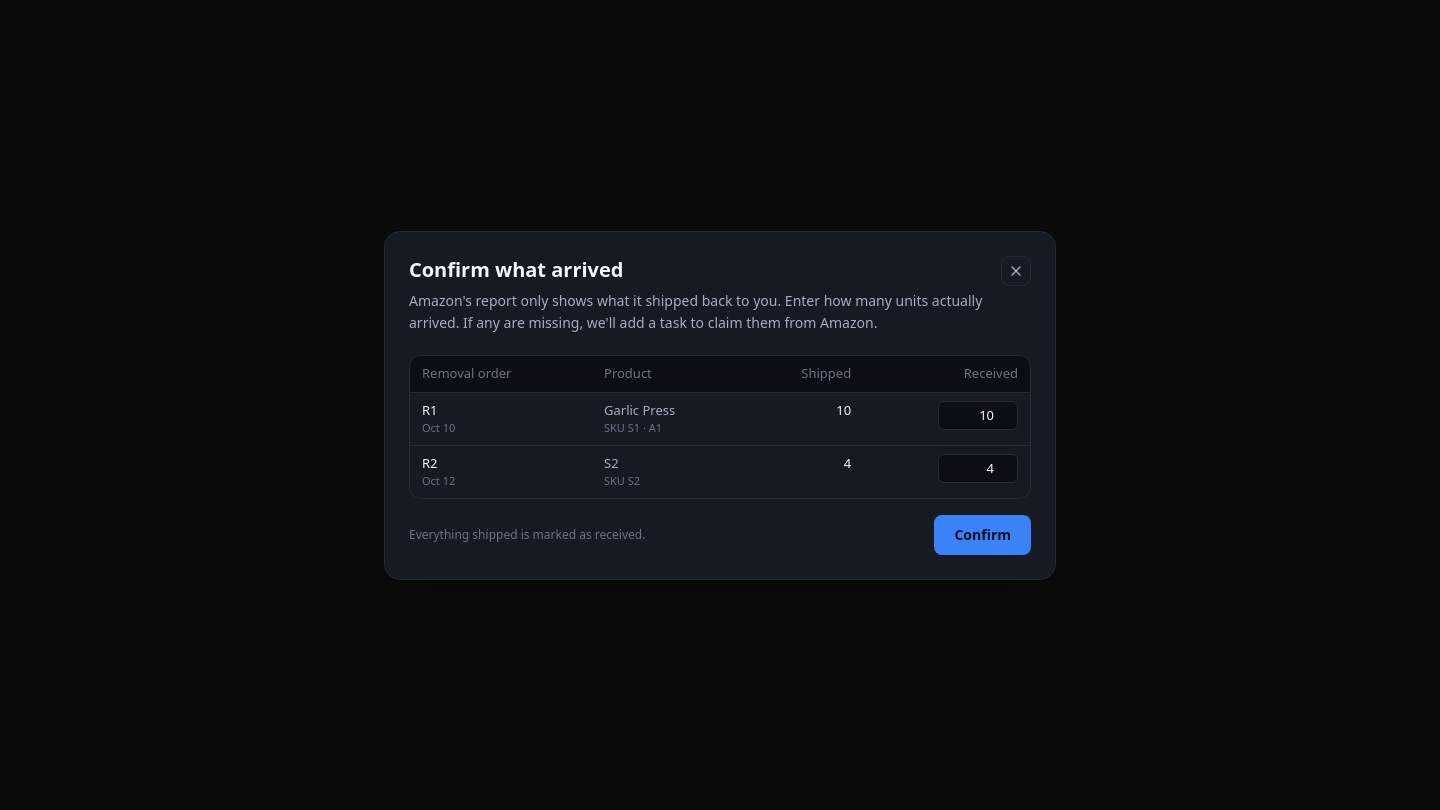
Test: RemovalReceiptModal › shows lines the server rejected and does not tick the task off
The image size is (1440, 810).
expect the text "Garlic Press" is shown: met, box [604,400,675,418]
Click the button "Confirm".
click(983, 534)  # box [934,514,1031,554]
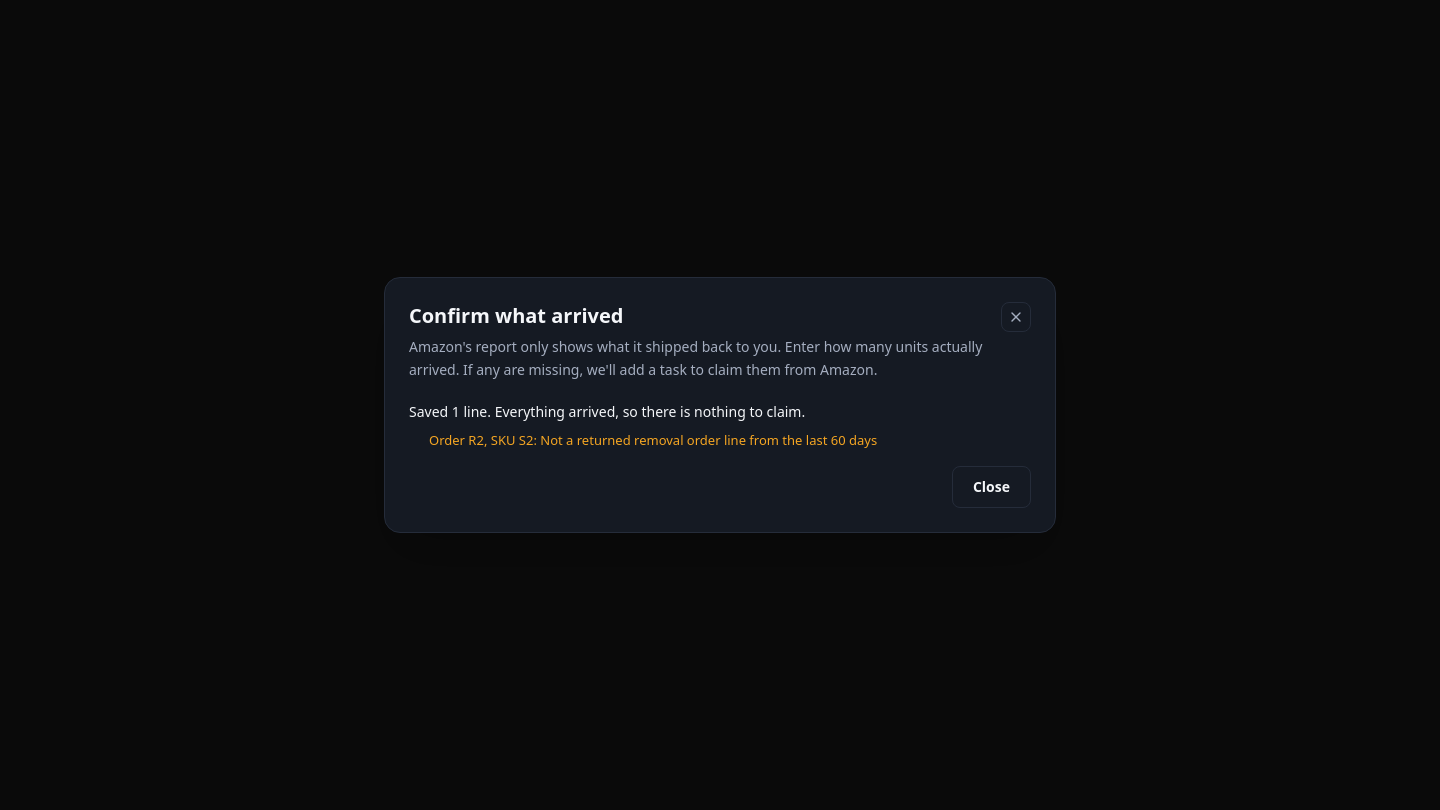
expect the list item "Order R2, SKU S2: Not a returned removal order line" is shown: met, box [429,431,877,449]
